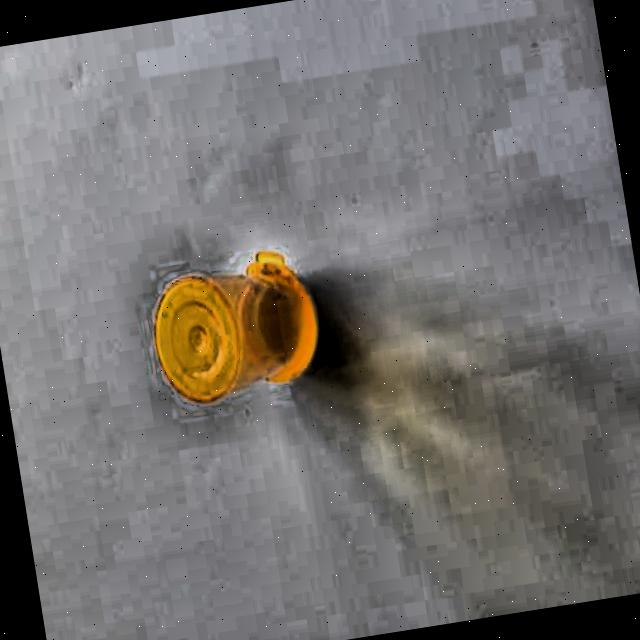plastic: (140, 245, 331, 424)
